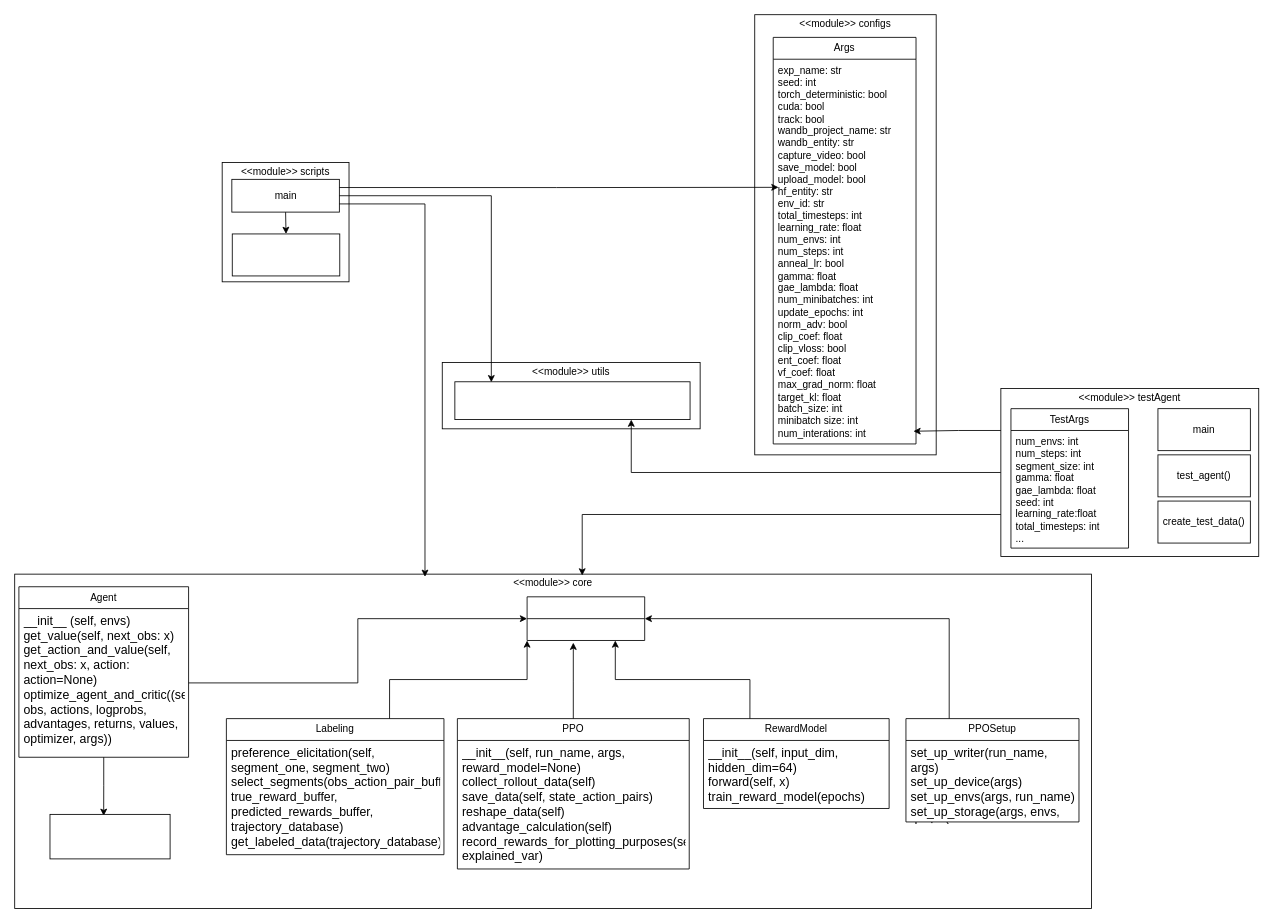
Image size: 1273x923. Some labels were removed from this diagram. The shapes that lost their labels are listed below. From the top down, each one's centre as x and y in pixels, then its label:
[285,254]: start_rollout_loop(ppo, num_iterations)
[572,400]: make_env( end_id, idx, capture_video, run_name, gamma)
[585,618]: TrainingData
[109,836]: layer_init(layer, std=np.sqrt(2), bias_const=0.0)
